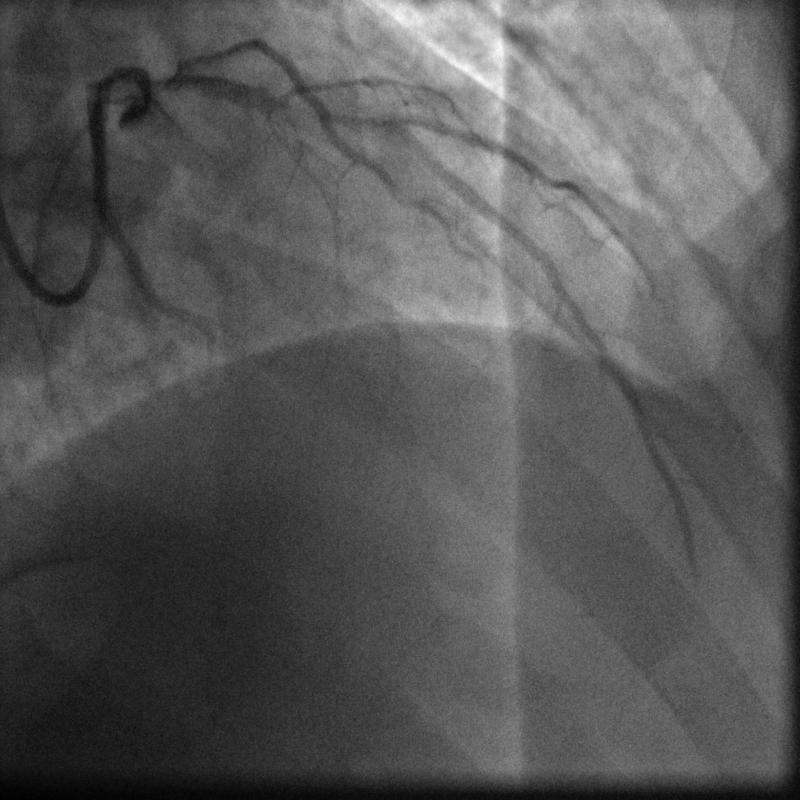Stenosis: (266, 96, 383, 128)
